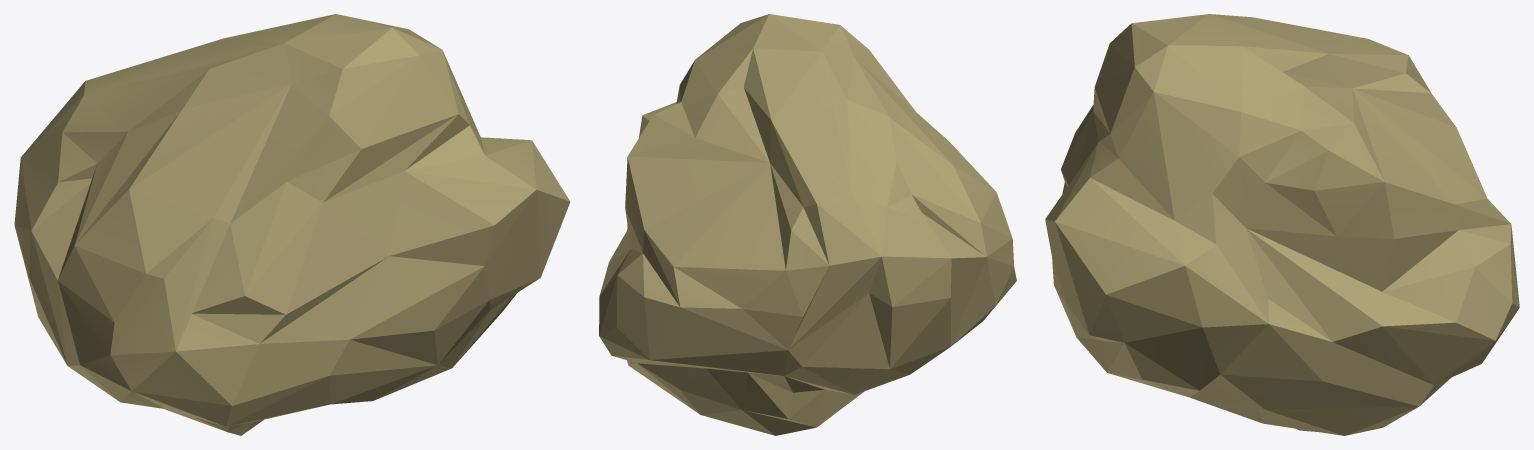
File: SM_rock_04.fbx
3 renders of one model, left to right at view 1: azimuth 30°, elevation 25°; view 2: azimuth 150°, elevation 25°; view 3: azimuth 270°, elevation 25°, orthographic. The views are drawn at different scales.
Parts seen in each view (by area): view 1: rock_04; view 2: rock_04; view 3: rock_04.
Part boxes in pixels (left/top/right/bottom): rock_04: left=14, top=14, right=570, bottom=435; rock_04: left=599, top=14, right=1016, bottom=435; rock_04: left=1045, top=14, right=1519, bottom=435.
Size of the model in its own units: 287 by 260 by 271.
